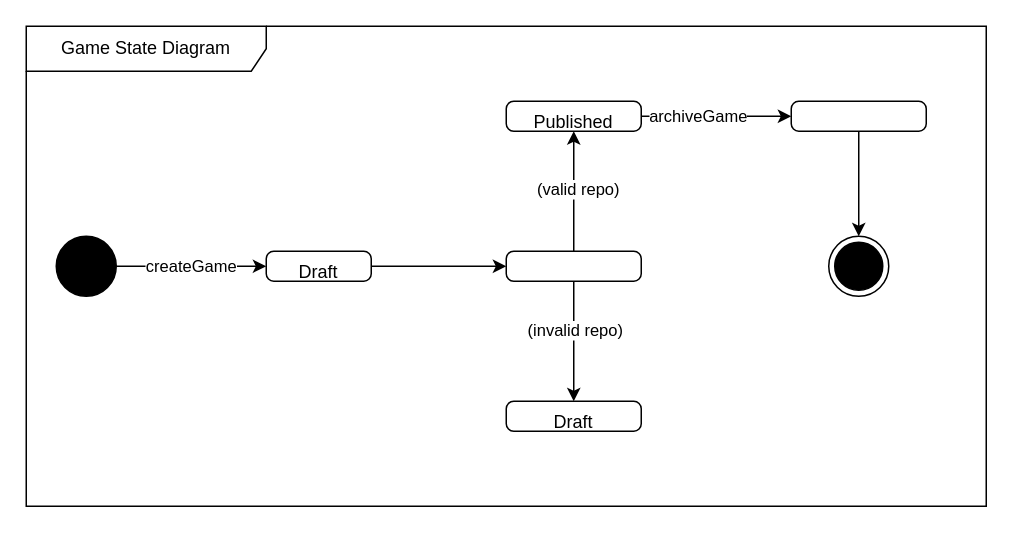
Some shapes in this 1013 by 533 pixel diagram are drawn without their labels. The box of each missing label's shape, as (x1, y1, x2, y2) in pixels:
Archived: (790, 100, 926, 131)
Validation: (505, 250, 641, 281)
